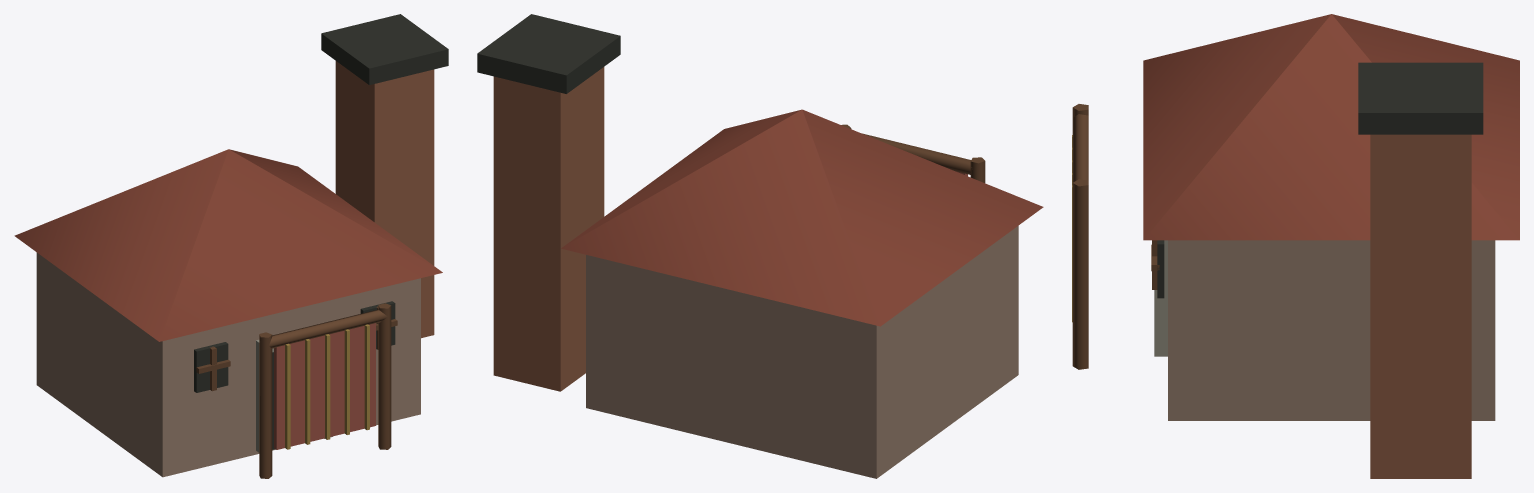
Rendered from custom-imp-weaver.glb.
The picture shows the model from 3 angles, left to right: view 1: azimuth 30°, elevation 25°; view 2: azimuth 150°, elevation 25°; view 3: azimuth 270°, elevation 25°; orthographic projection. The views are drawn at different scales.
Parts seen in each view (by area): view 1: custom-imp-weaver; view 2: custom-imp-weaver; view 3: custom-imp-weaver.
Boxes of the visible parts, bbox=[...] form: custom-imp-weaver: bbox=[14, 14, 448, 478]; custom-imp-weaver: bbox=[477, 14, 1043, 478]; custom-imp-weaver: bbox=[1072, 14, 1519, 478].
Bounding box in the file's own units: 1 × 0.736 × 0.8024.
